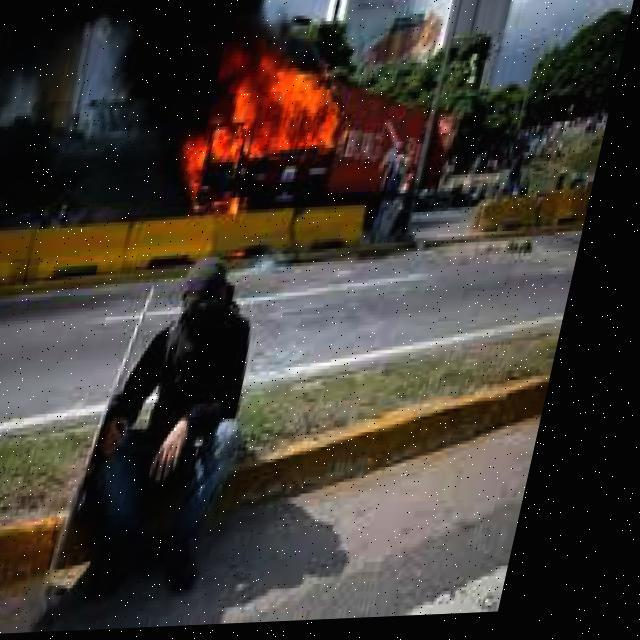Fire: (172, 42, 368, 228)
